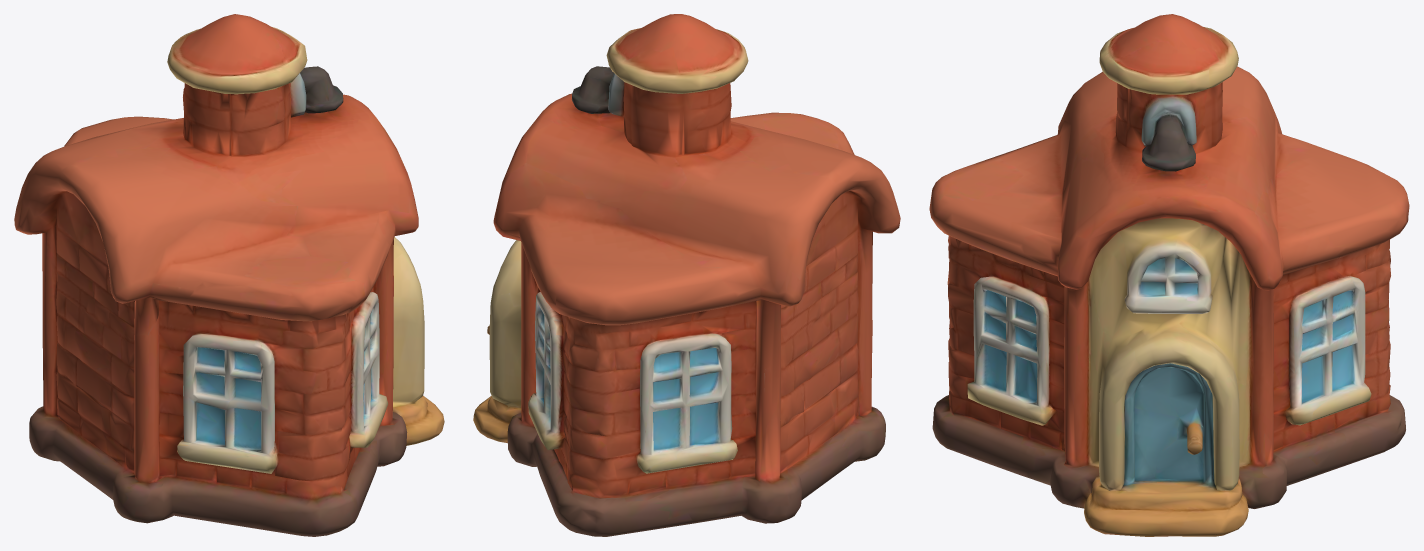
Rendered from street-school.glb.
3 views of the same model, side by side, from view 1: azimuth 30°, elevation 25°; view 2: azimuth 150°, elevation 25°; view 3: azimuth 270°, elevation 25° (orthographic).
Visible parts, largest first — view 1: tripo_node_73a5382f-9ce3-47c5-9426-72d9f9f71c22; view 2: tripo_node_73a5382f-9ce3-47c5-9426-72d9f9f71c22; view 3: tripo_node_73a5382f-9ce3-47c5-9426-72d9f9f71c22.
Part boxes in pixels (left/top/right/bottom): tripo_node_73a5382f-9ce3-47c5-9426-72d9f9f71c22: left=14, top=14, right=444, bottom=536; tripo_node_73a5382f-9ce3-47c5-9426-72d9f9f71c22: left=473, top=14, right=900, bottom=536; tripo_node_73a5382f-9ce3-47c5-9426-72d9f9f71c22: left=929, top=14, right=1409, bottom=536.
Size of the model in its own units: 0.8507 by 1 by 0.9991.
1 material, 1 textured.
